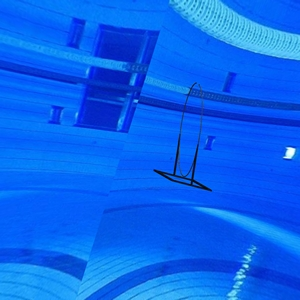circle: (152, 81, 214, 194)
